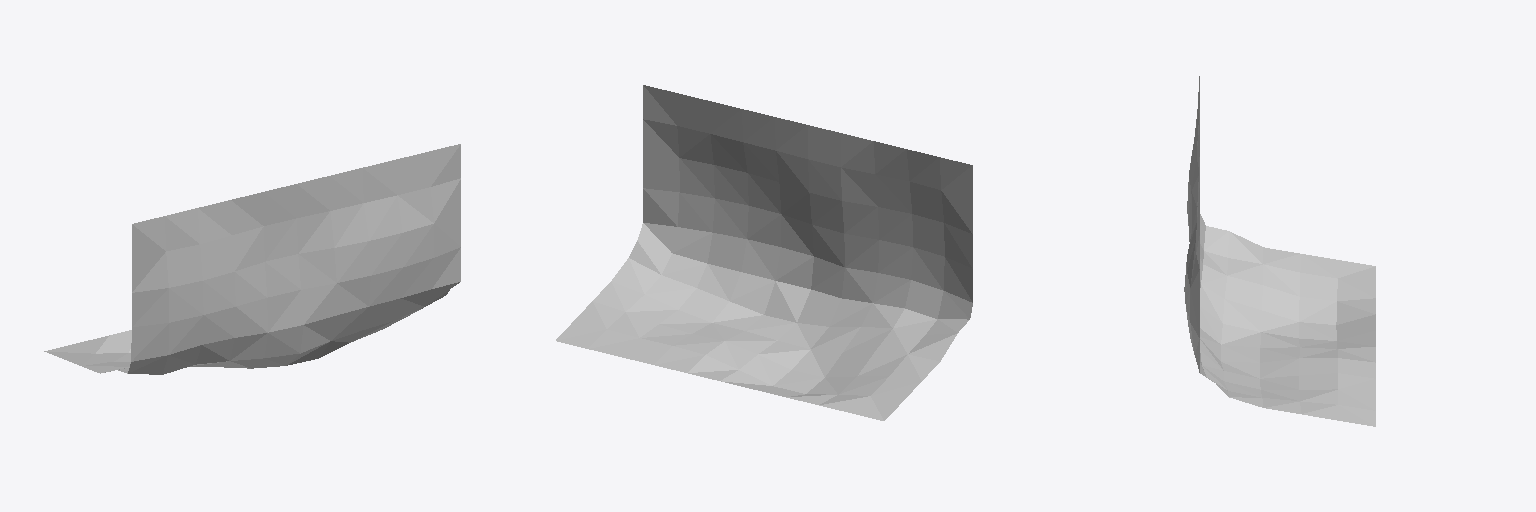
Rendered from foliage-curved.obj.
3 renders of one model, left to right at view 1: azimuth 30°, elevation 25°; view 2: azimuth 150°, elevation 25°; view 3: azimuth 270°, elevation 25°, orthographic.
Parts seen in each view (by area): view 1: ZBrush_defualt_group; view 2: ZBrush_defualt_group; view 3: ZBrush_defualt_group.
Part boxes in pixels (bbox=[...]): ZBrush_defualt_group: bbox=[44, 144, 460, 374]; ZBrush_defualt_group: bbox=[556, 85, 972, 420]; ZBrush_defualt_group: bbox=[1184, 76, 1375, 426].
Bounding box in the file's own units: 2 × 1.18 × 1.01.